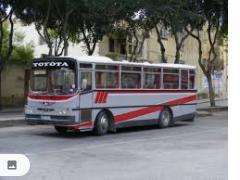bus: (25, 56, 203, 136)
